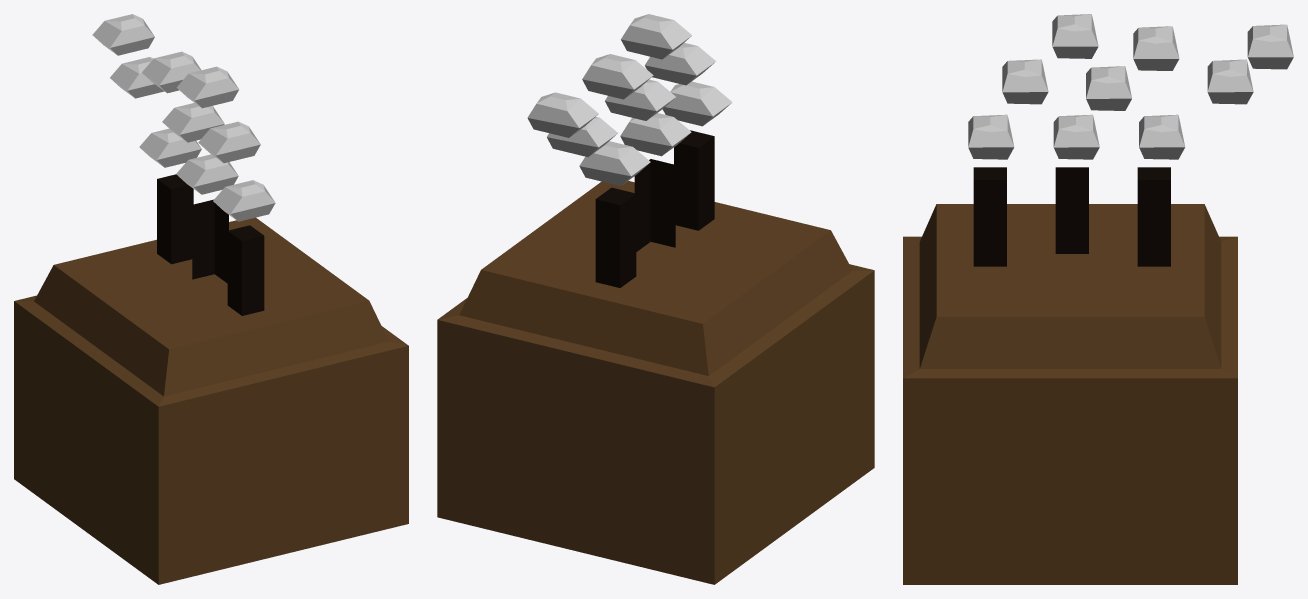
File: big_factory.obj
3 renders of one model, left to right at view 1: azimuth 30°, elevation 25°; view 2: azimuth 150°, elevation 25°; view 3: azimuth 270°, elevation 25°, orthographic. The views are drawn at different scales.
Visible parts, largest first — view 1: Cube_Cube.002, Cube.008_Cube.009; view 2: Cube_Cube.002, Cube.008_Cube.009; view 3: Cube_Cube.002, Cube.008_Cube.009.
Part boxes in pixels (x1,y1,x2,y2): Cube_Cube.002: (14,174,408,584); Cube.008_Cube.009: (92,14,275,221); Cube_Cube.002: (437,130,874,584); Cube.008_Cube.009: (527,14,732,185); Cube_Cube.002: (903,167,1237,584); Cube.008_Cube.009: (968,14,1293,159).
Size of the model in its own units: 31.36 by 51.16 by 36.59.
